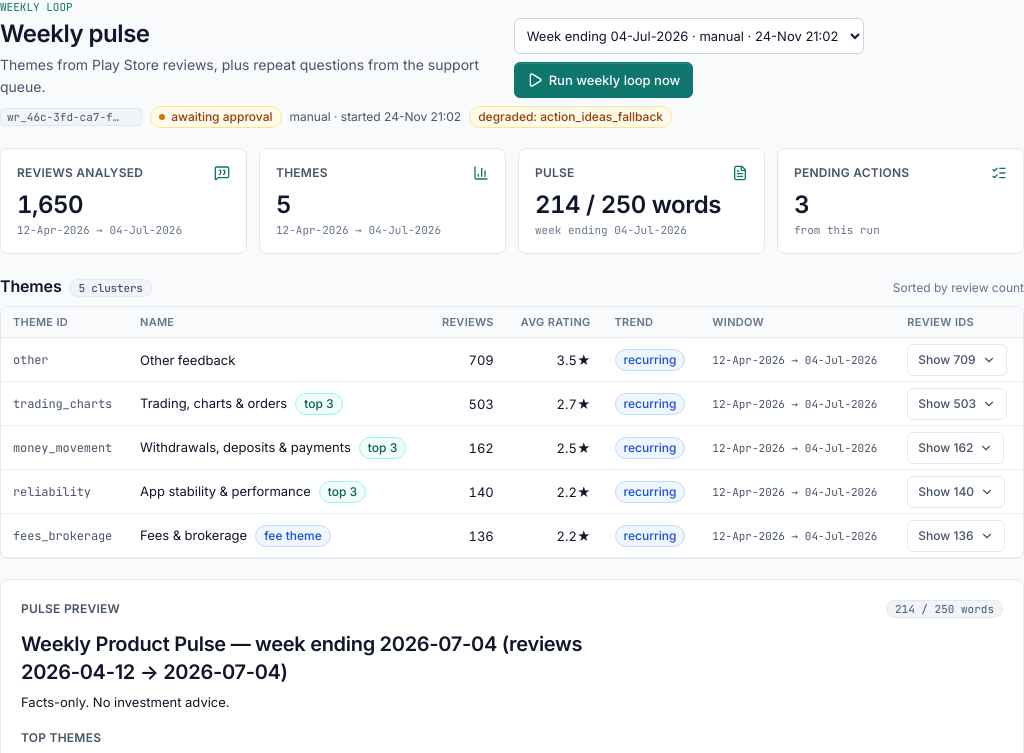
Test: Other views › pulse reports the weekly run lock
Step 1. Click the button "Run weekly loop now" → point(604, 80), box [514,62,693,98]
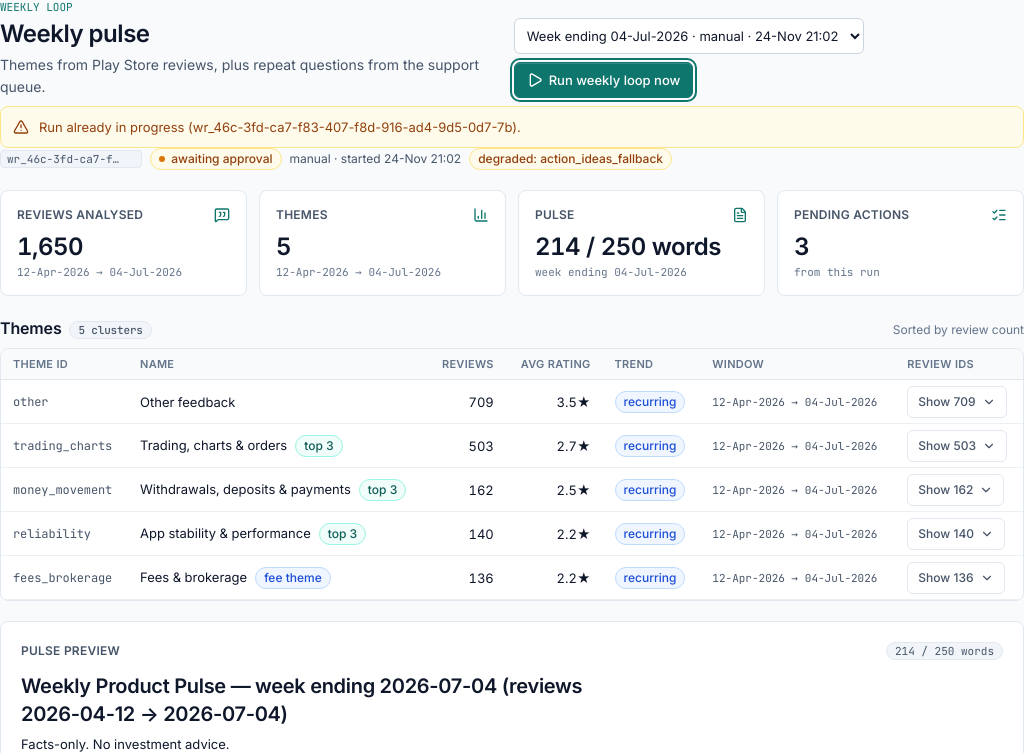
Expected: the text "Run already in progress" is shown, [39,119,521,135]
